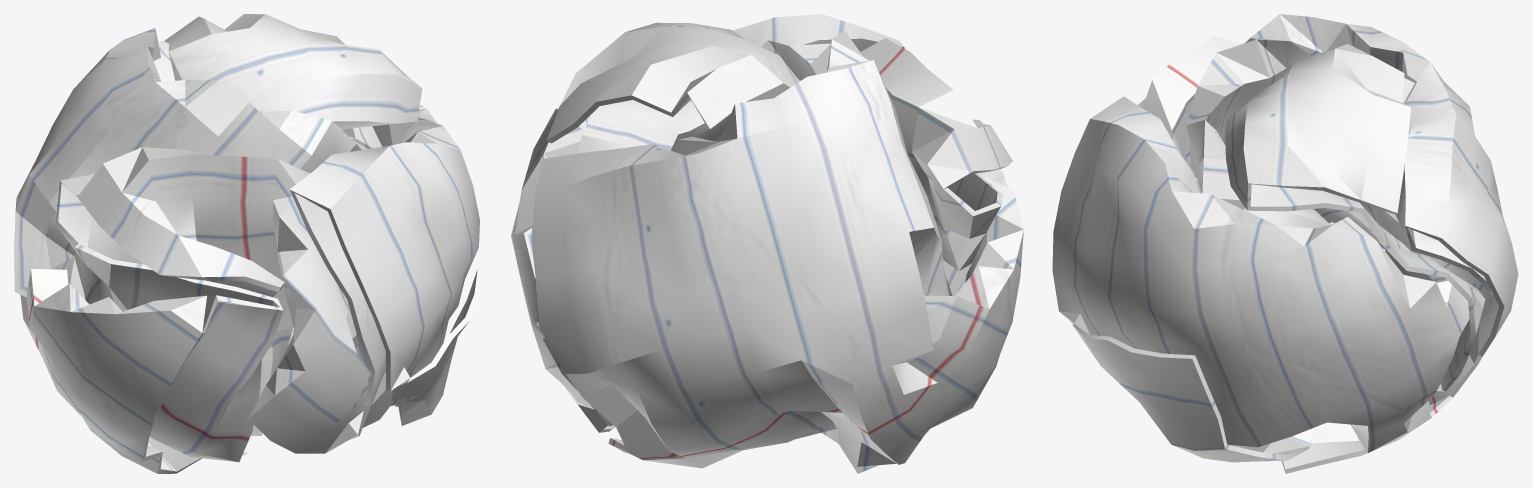
Rendered from paper ball.fbx.
3 views of the same model, side by side, from view 1: azimuth 30°, elevation 25°; view 2: azimuth 150°, elevation 25°; view 3: azimuth 270°, elevation 25° (orthographic). The views are drawn at different scales.
Parts seen in each view (by area): view 1: Object_4; view 2: Object_4; view 3: Object_4.
Part boxes in pixels (<box>): Object_4: <box>14,14,482,473</box>; Object_4: <box>511,14,1023,473</box>; Object_4: <box>1052,14,1518,473</box>.
Size of the model in its own units: 71.66 by 65.88 by 73.08.
Materials: 1 (1 with a texture image).
